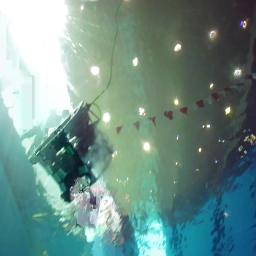Full: (32, 101, 112, 203)
